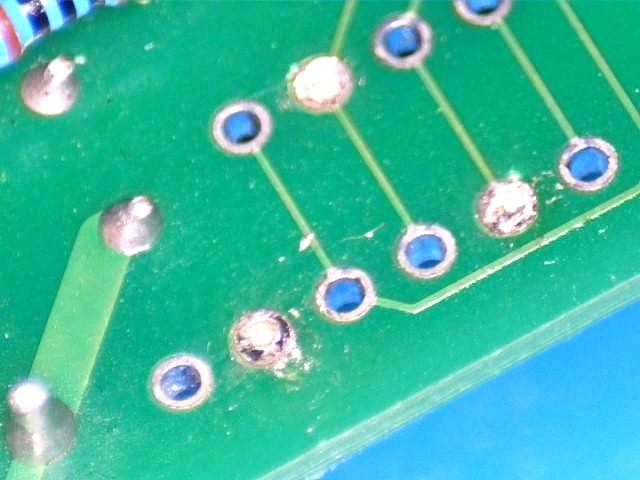pcb_defect: (230, 310, 291, 367), (477, 179, 538, 236), (293, 55, 350, 111)
